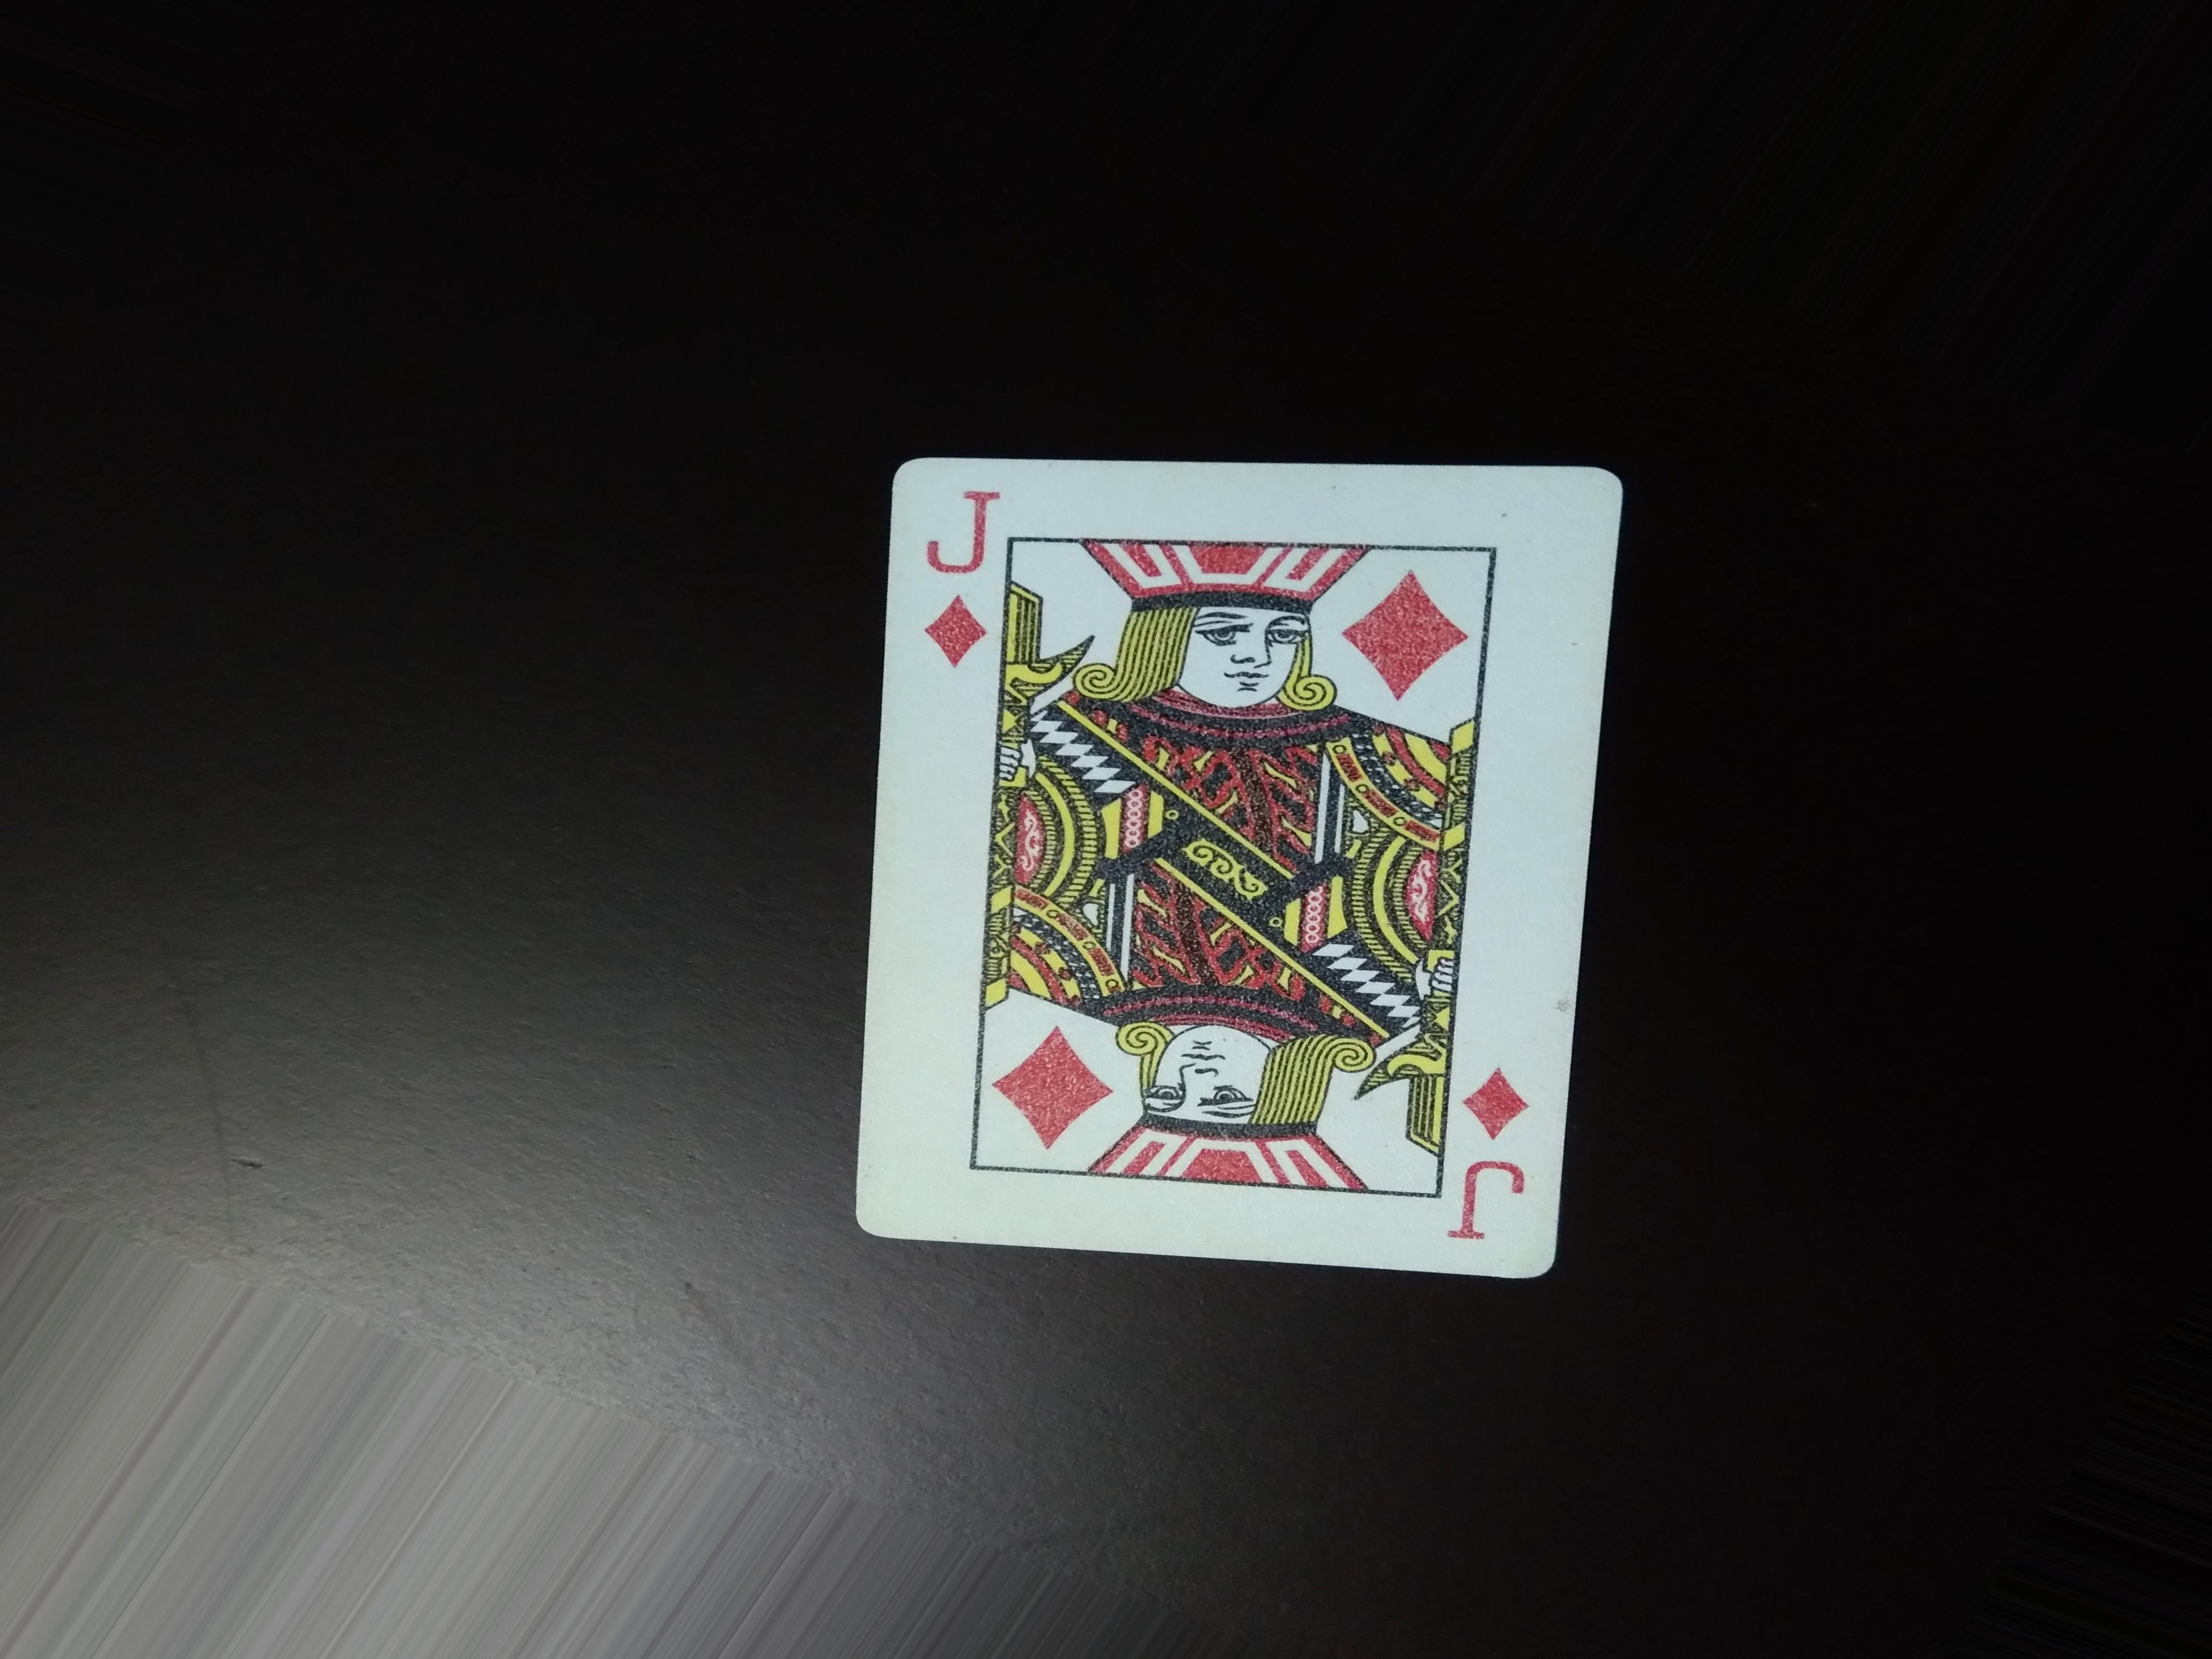JD: (914, 471, 998, 688)
